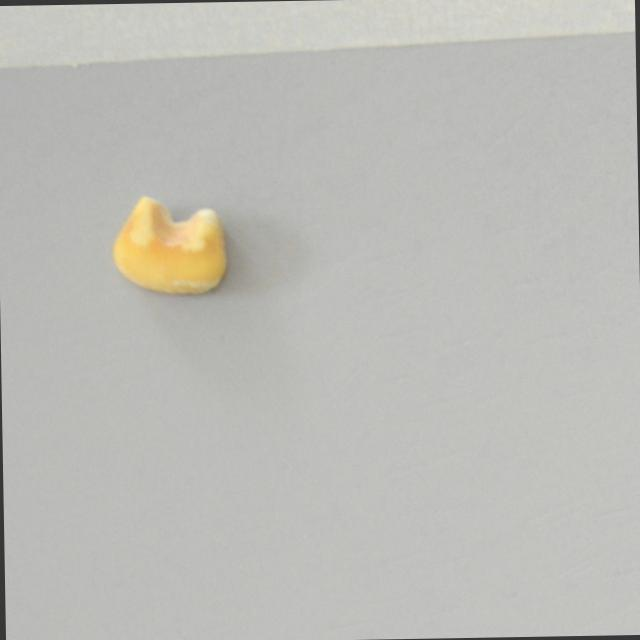dañado: (111, 193, 231, 302)
